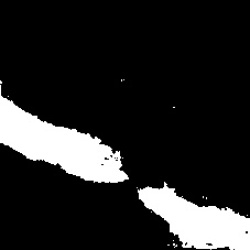crack: (2, 94, 135, 184), (139, 182, 249, 248)
pinhole: (168, 101, 182, 115), (119, 72, 129, 85)
